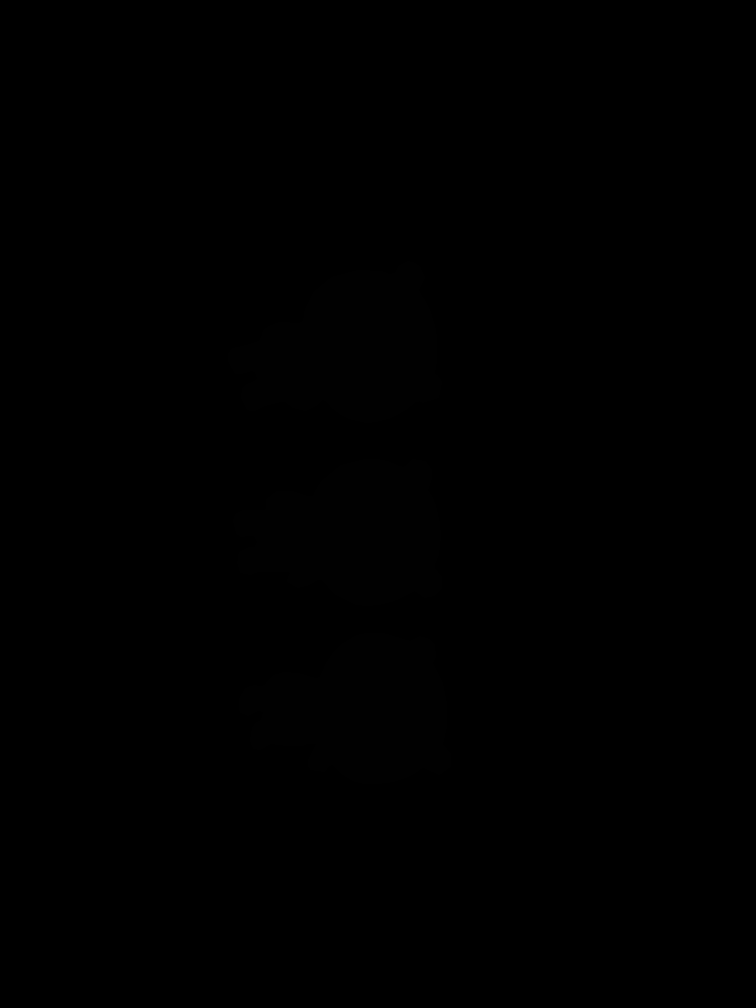bear: (212, 250, 457, 426), (236, 630, 458, 799), (224, 448, 455, 610)
